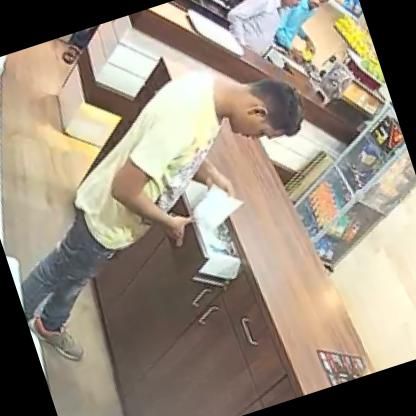Human Body: (0, 38, 359, 376), (226, 0, 325, 63), (267, 0, 349, 60)
